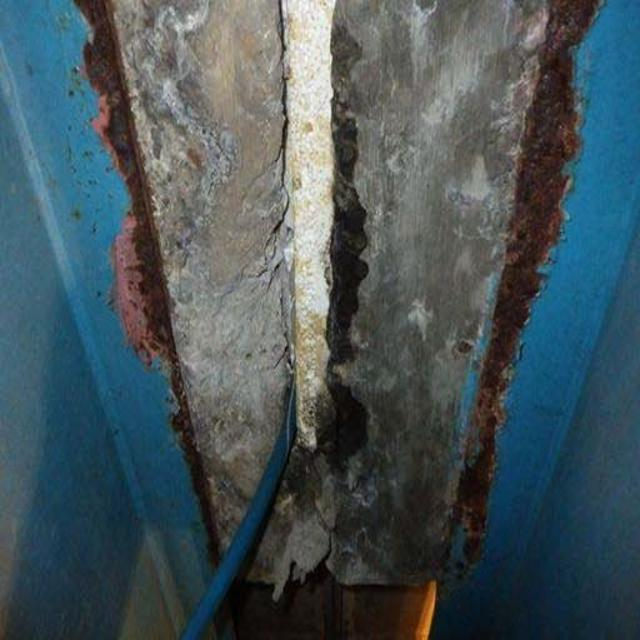corrosion: (461, 10, 603, 604), (80, 13, 177, 410)
spalling: (221, 164, 343, 460)
